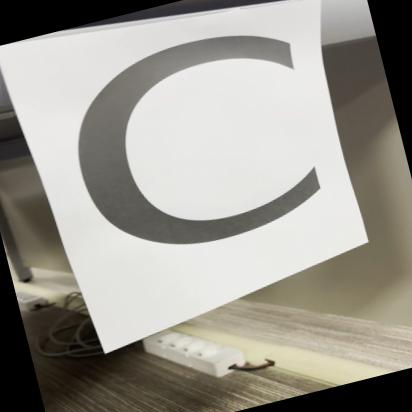seat: (11, 0, 362, 315)
